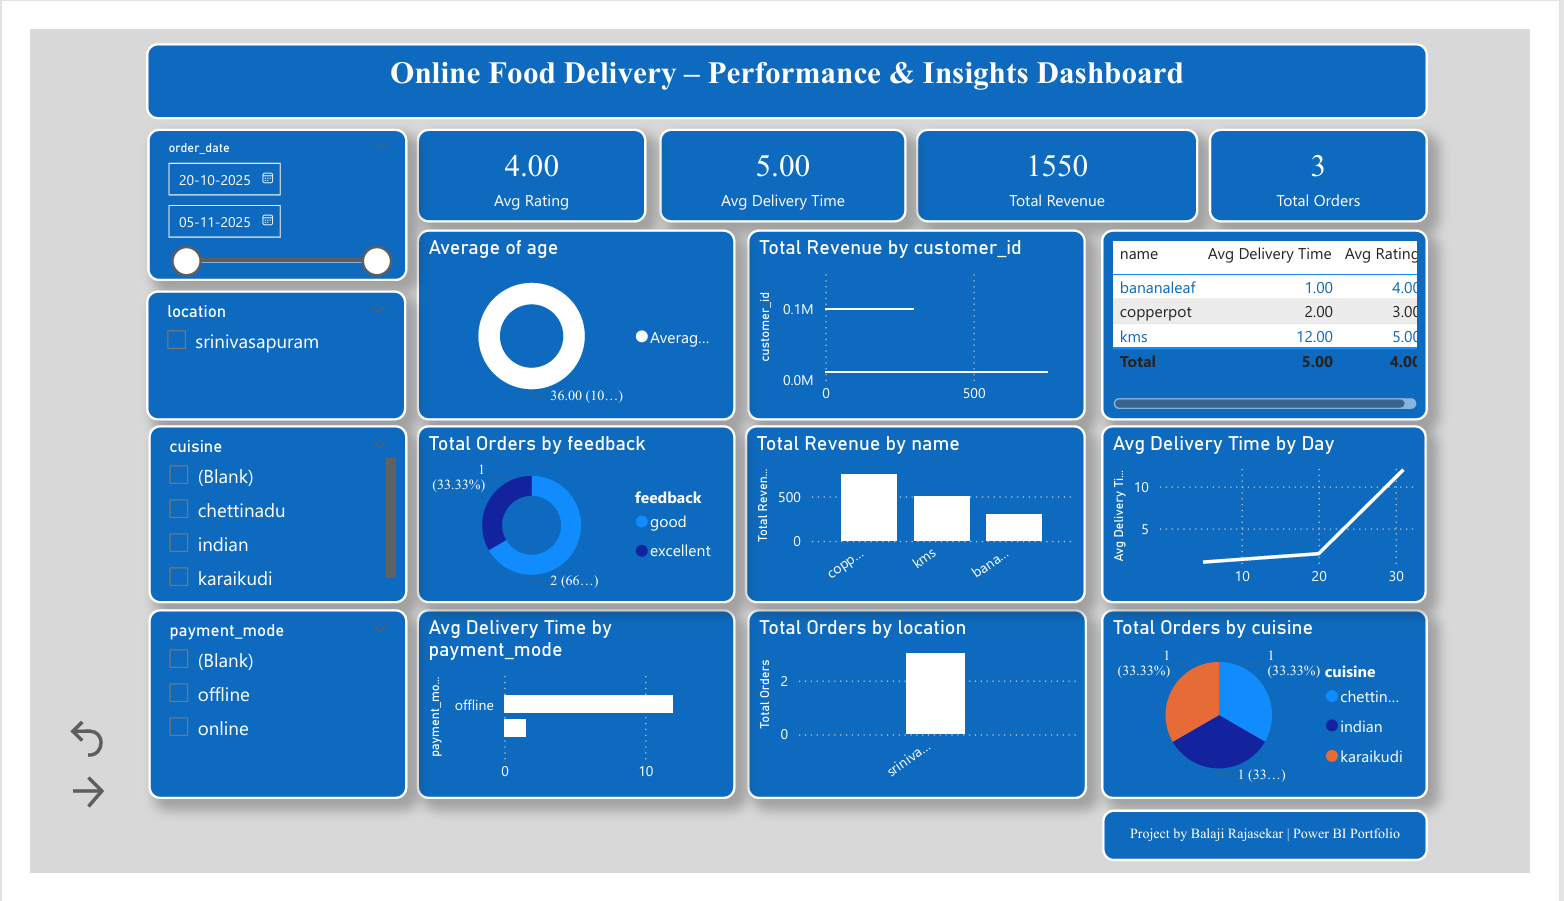

This screenshot's page, from the dashboard's own definition file:
{"tool":"powerbi","page":{"name":"Page 1","canvas":[1280,720],"ordinal":0},"visuals":[{"type":"card","fields":{"Values":["Customers.Total Revenue"]},"box":[755.8,84.9,240.7,80.2],"z":0},{"type":"card","fields":{"Values":["Customers.Total Orders"]},"box":[1005.8,84.9,187.2,80.2],"z":1000},{"type":"card","fields":{"Values":["Customers.Avg Delivery Time"]},"box":[537.2,84.9,210.5,80.2],"z":2000},{"type":"card","fields":{"Values":["Customers.Avg Rating"]},"box":[330.2,84.9,195.3,80.2],"z":3000},{"type":"barChart","fields":{"Category":["Orders.customer_id"],"Y":["Customers.Total Revenue"]},"box":[611.6,170.9,289.5,162.8],"z":4000},{"type":"columnChart","fields":{"Category":["Customers.location"],"Y":["Customers.Total Orders"]},"box":[611.6,495.4,290.7,161.6],"z":5000},{"type":"donutChart","fields":{"Y":["Avg(Customers.age)"]},"box":[330.2,170.9,272.1,162.8],"z":6000},{"type":"columnChart","fields":{"Category":["Restaurant.name"],"Y":["Customers.Total Revenue"]},"box":[610.5,338.4,290.7,151.2],"z":7000},{"type":"pieChart","fields":{"Category":["Restaurant.cuisine"],"Y":["Customers.Total Orders"]},"box":[914,495.4,279.1,161.6],"z":8000},{"type":"tableEx","fields":{"Values":["Restaurant.name","Customers.Avg Delivery Time","Customers.Avg Rating"]},"box":[914,170.9,279.1,162.8],"z":9000},{"type":"lineChart","fields":{"Y":["Customers.Avg Delivery Time"],"Category":["Orders.order_date.Variation.Date Hierarchy.Day"]},"box":[914,338.4,277.9,151.2],"z":10000},{"type":"barChart","fields":{"Category":["Orders.payment_mode"],"Y":["Customers.Avg Delivery Time"]},"box":[330.2,495.4,272.1,161.6],"z":11000},{"type":"donutChart","fields":{"Category":["Orders.feedback"],"Y":["Customers.Total Orders"]},"box":[330.2,338.4,272.1,151.2],"z":12000},{"type":"slicer","fields":{"Values":["Orders.order_date"]},"box":[100,84.9,222.1,130.2],"z":13000},{"type":"slicer","fields":{"Values":["Customers.location"]},"box":[98.8,223.3,222.1,110.5],"z":14000},{"type":"slicer","fields":{"Values":["Restaurant.cuisine"]},"box":[101.2,338.4,220.9,151.2],"z":15000},{"type":"slicer","fields":{"Values":["Orders.payment_mode"]},"box":[101.2,495.4,220.9,161.6],"z":16000},{"type":"actionButton","box":[27.9,584.9,44.2,40.7],"z":17000},{"type":"actionButton","box":[31.4,627.9,36,46.5],"z":18000},{"type":"textbox","box":[98.8,11.6,1094.2,65.1],"z":19000},{"type":"textbox","box":[915.1,666.3,277.9,44.2],"z":20000}]}

Visuals, with their boxes in screenshot pixels (x1, y1, x2, y2), scaled from the page's 1280x720 canvas onto the 1564x901 screenshot:
card - Customers.Total Revenue: left=923, top=106, right=1218, bottom=207
card - Customers.Total Orders: left=1229, top=106, right=1458, bottom=207
card - Customers.Avg Delivery Time: left=656, top=106, right=914, bottom=207
card - Customers.Avg Rating: left=403, top=106, right=642, bottom=207
barChart - Orders.customer_id x Customers.Total Revenue: left=747, top=214, right=1101, bottom=418
columnChart - Customers.location x Customers.Total Orders: left=747, top=620, right=1102, bottom=822
donutChart - Avg(Customers.age): left=403, top=214, right=736, bottom=418
columnChart - Restaurant.name x Customers.Total Revenue: left=746, top=423, right=1101, bottom=613
pieChart - Restaurant.cuisine x Customers.Total Orders: left=1117, top=620, right=1458, bottom=822
tableEx - Restaurant.name x Customers.Avg Delivery Time: left=1117, top=214, right=1458, bottom=418
lineChart - Customers.Avg Delivery Time x Orders.order_date.Variation.Date Hierarchy.Day: left=1117, top=423, right=1456, bottom=613
barChart - Orders.payment_mode x Customers.Avg Delivery Time: left=403, top=620, right=736, bottom=822
donutChart - Orders.feedback x Customers.Total Orders: left=403, top=423, right=736, bottom=613
slicer - Orders.order_date: left=122, top=106, right=394, bottom=269
slicer - Customers.location: left=121, top=279, right=392, bottom=418
slicer - Restaurant.cuisine: left=124, top=423, right=394, bottom=613
slicer - Orders.payment_mode: left=124, top=620, right=394, bottom=822
actionButton: left=34, top=732, right=88, bottom=783
actionButton: left=38, top=786, right=82, bottom=844
textbox: left=121, top=15, right=1458, bottom=96
textbox: left=1118, top=834, right=1458, bottom=889
